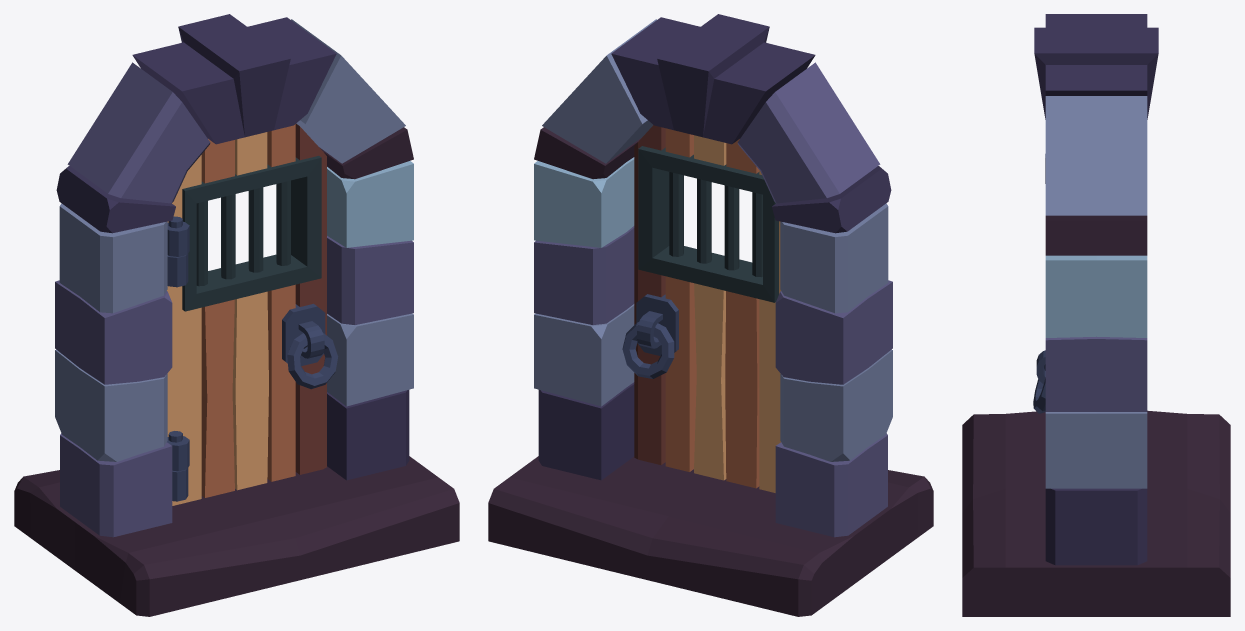
The model's file is Doors_Prison.fbx.
3 renders of one model, left to right at view 1: azimuth 30°, elevation 25°; view 2: azimuth 150°, elevation 25°; view 3: azimuth 270°, elevation 25°, orthographic.
Parts seen in each view (by area): view 1: Doors_Prison_Frame, Doors_Prison_Doors; view 2: Doors_Prison_Frame, Doors_Prison_Doors; view 3: Doors_Prison_Frame, Doors_Prison_Doors.
Part boxes in pixels (box(x1,y1,x2,y2)): Doors_Prison_Frame: box(14, 14, 459, 616); Doors_Prison_Doors: box(167, 123, 338, 505); Doors_Prison_Frame: box(488, 14, 933, 616); Doors_Prison_Doors: box(622, 125, 780, 492); Doors_Prison_Frame: box(962, 14, 1230, 616); Doors_Prison_Doors: box(1033, 154, 1045, 413).
Bounding box in the file's own units: 197 × 289 × 141.
